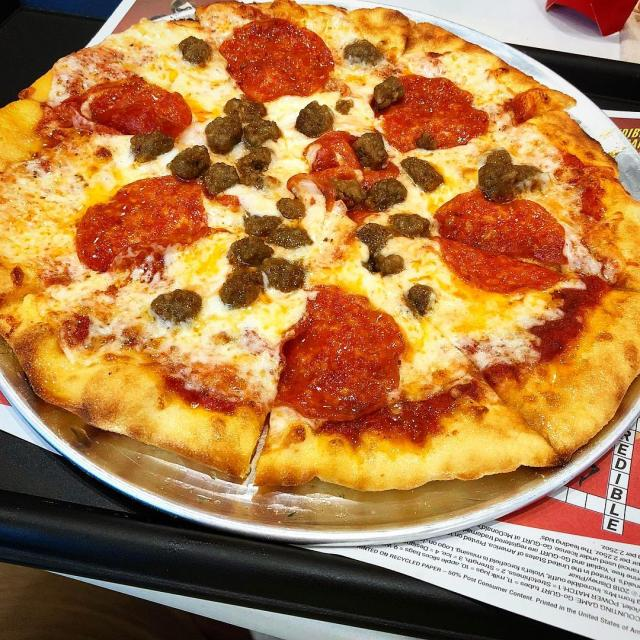pepperoni: (278, 287, 406, 418), (435, 191, 567, 293), (75, 175, 208, 272), (218, 21, 338, 103), (303, 132, 399, 219), (382, 76, 488, 152), (81, 80, 193, 138)
pizza: (0, 0, 640, 494)
